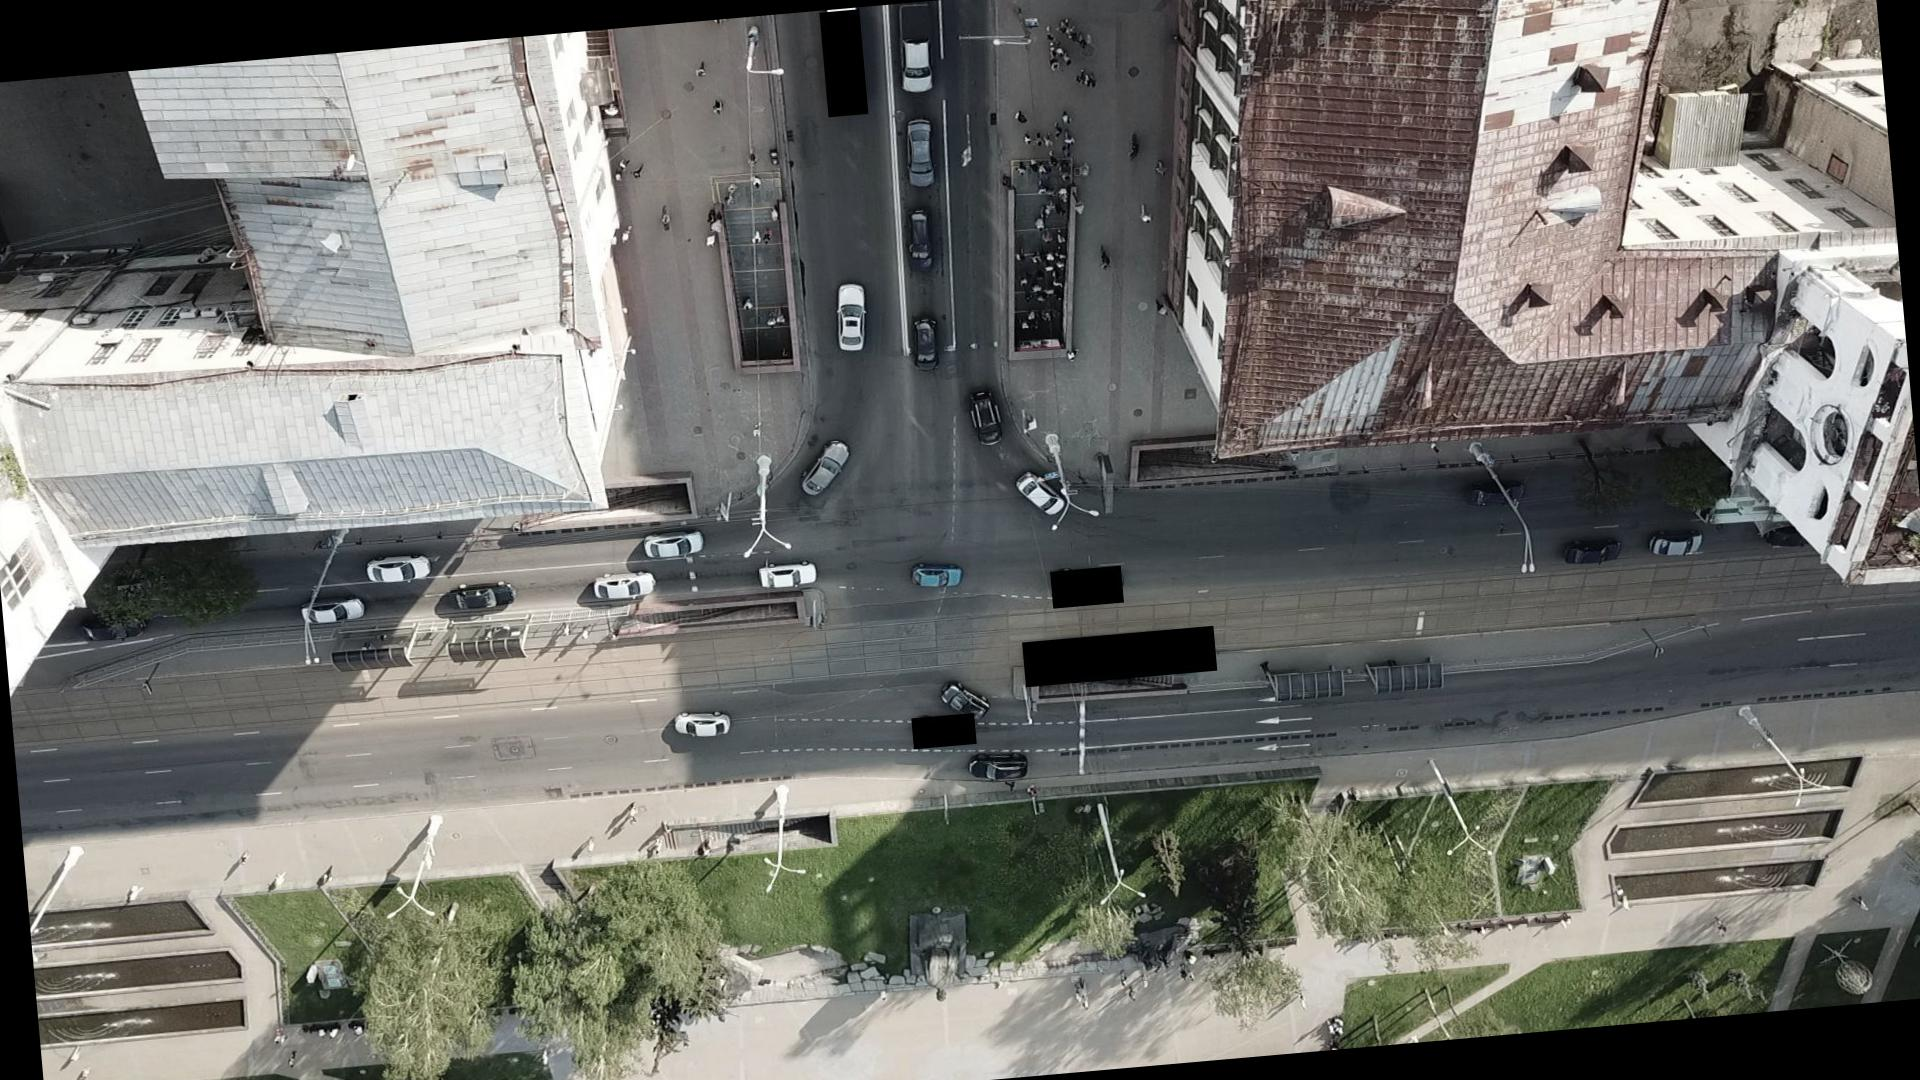vehicle: (894, 8, 936, 94), (795, 439, 855, 497), (832, 282, 872, 353), (1014, 469, 1067, 520), (939, 678, 993, 723), (903, 116, 936, 189), (444, 580, 518, 612), (967, 388, 1005, 448), (365, 551, 433, 585), (592, 568, 658, 601), (967, 752, 1030, 785), (903, 207, 935, 273), (644, 527, 705, 560), (757, 559, 819, 591), (673, 708, 733, 740), (299, 596, 365, 625), (1563, 535, 1622, 567), (1466, 479, 1527, 509), (909, 560, 964, 591), (911, 316, 942, 371), (1650, 529, 1704, 559)
